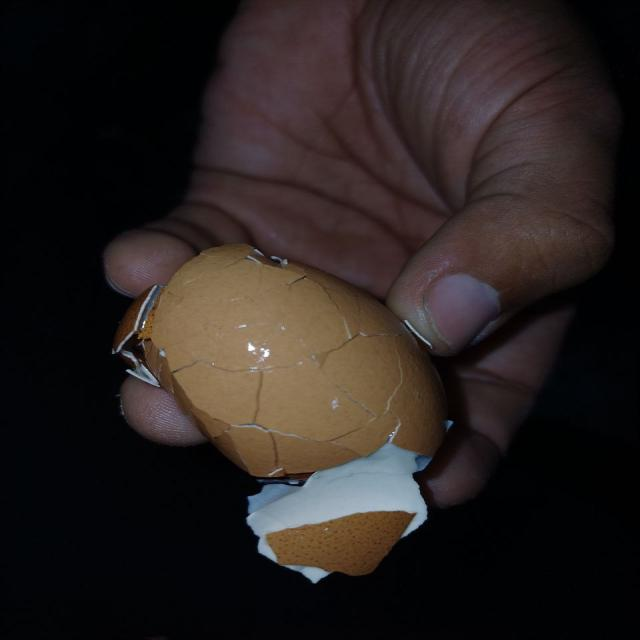organic: (111, 245, 453, 584)
